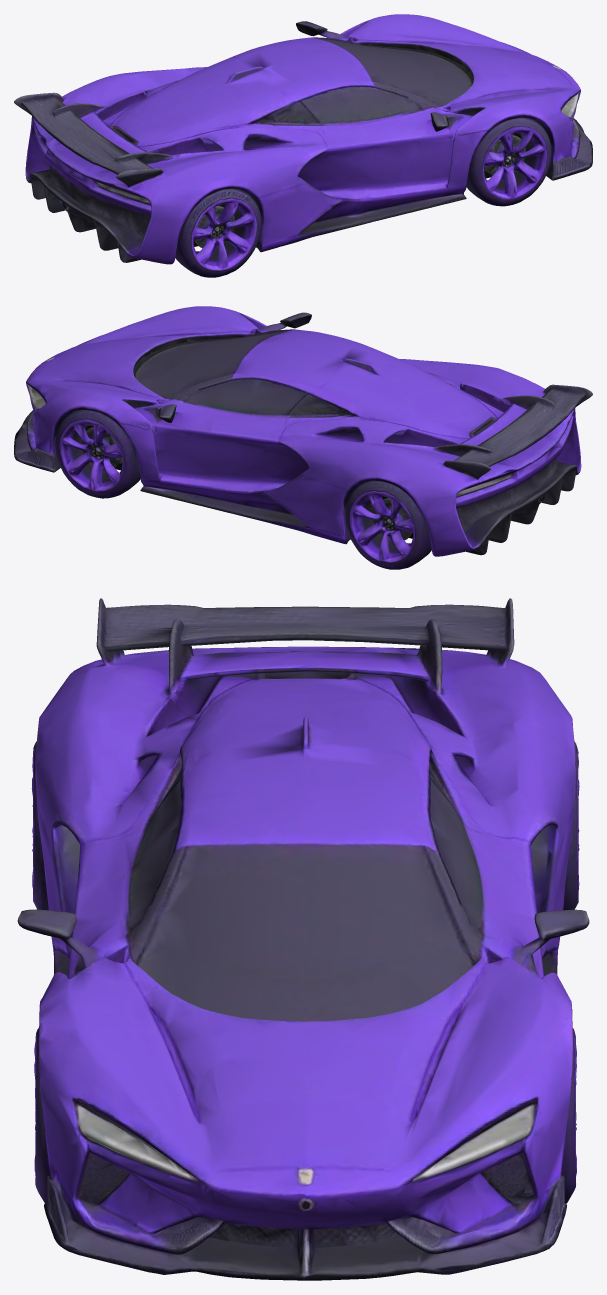
File: sable.glb
The picture shows the model from 3 angles, top to bottom: view 1: azimuth 30°, elevation 25°; view 2: azimuth 150°, elevation 25°; view 3: azimuth 270°, elevation 25°; orthographic projection. The views are drawn at different scales.
Parts seen in each view (by area): view 1: node_817821c8-a04c-41e8-86e5-91315d1e0433; view 2: node_817821c8-a04c-41e8-86e5-91315d1e0433; view 3: node_817821c8-a04c-41e8-86e5-91315d1e0433.
Boxes of the visible parts, x1=… form: node_817821c8-a04c-41e8-86e5-91315d1e0433: x1=14, y1=14, x2=592, y2=277; node_817821c8-a04c-41e8-86e5-91315d1e0433: x1=14, y1=306, x2=592, y2=569; node_817821c8-a04c-41e8-86e5-91315d1e0433: x1=17, y1=598, x2=589, y2=1280.
Size of the model in its own units: 0.9998 by 0.2627 by 0.4907.
1 material, 1 textured.
